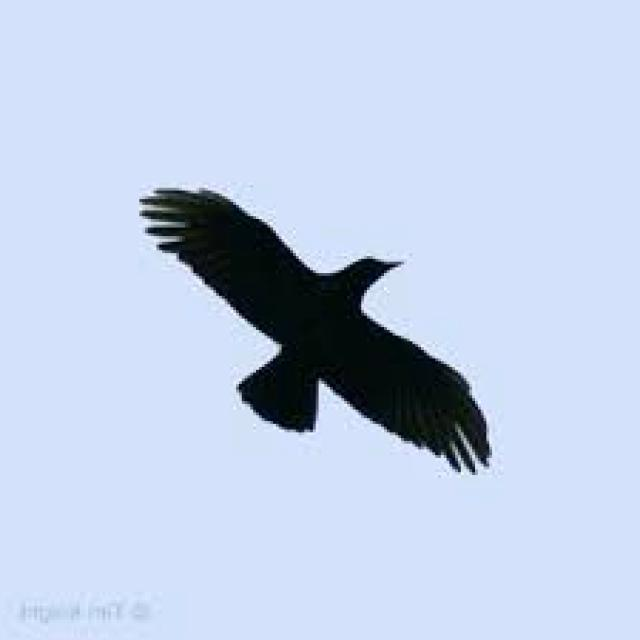crow: (142, 188, 489, 472)
